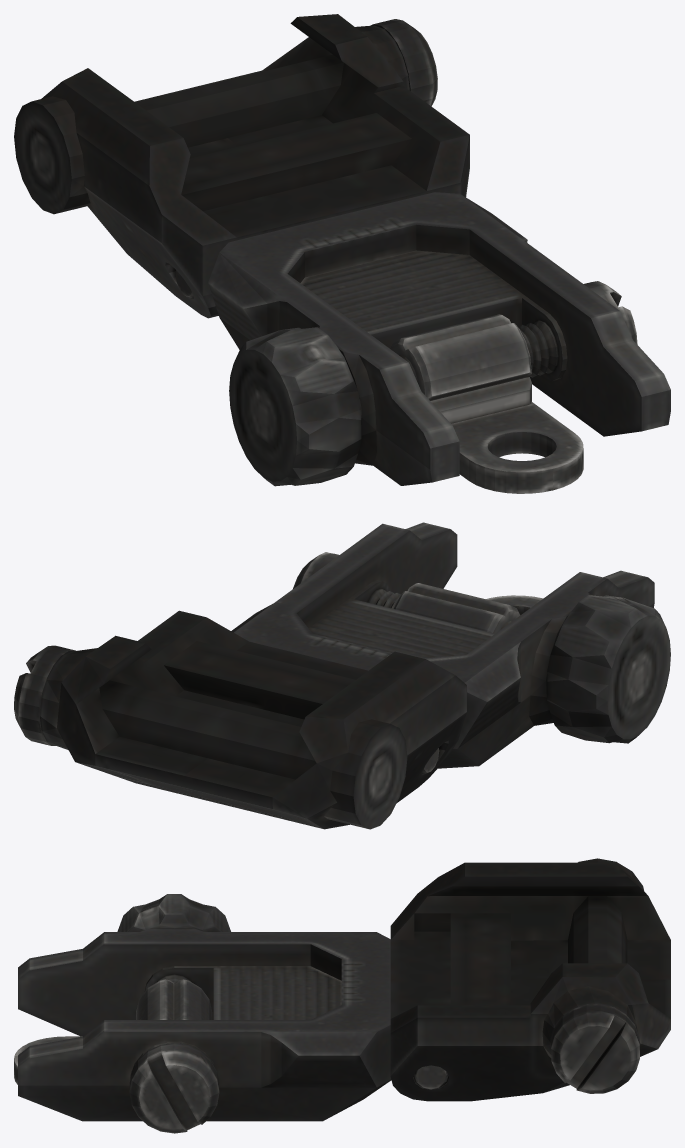
3 renders of one model, top to bottom at view 1: azimuth 30°, elevation 25°; view 2: azimuth 150°, elevation 25°; view 3: azimuth 270°, elevation 25°, orthographic. The views are drawn at different scales.
Parts seen in each view (by area): view 1: TW_5fb6564947ce63734e3fa1da_folded_PZ_Import; view 2: TW_5fb6564947ce63734e3fa1da_folded_PZ_Import; view 3: TW_5fb6564947ce63734e3fa1da_folded_PZ_Import.
Part boxes in pixels (x1=…): TW_5fb6564947ce63734e3fa1da_folded_PZ_Import: x1=14, y1=14, x2=670, y2=493; TW_5fb6564947ce63734e3fa1da_folded_PZ_Import: x1=14, y1=522, x2=670, y2=829; TW_5fb6564947ce63734e3fa1da_folded_PZ_Import: x1=14, y1=858, x2=670, y2=1133.
Bounding box in the file's own units: 0.0197 × 0.0329 × 0.00943.
1 material, 1 textured.
